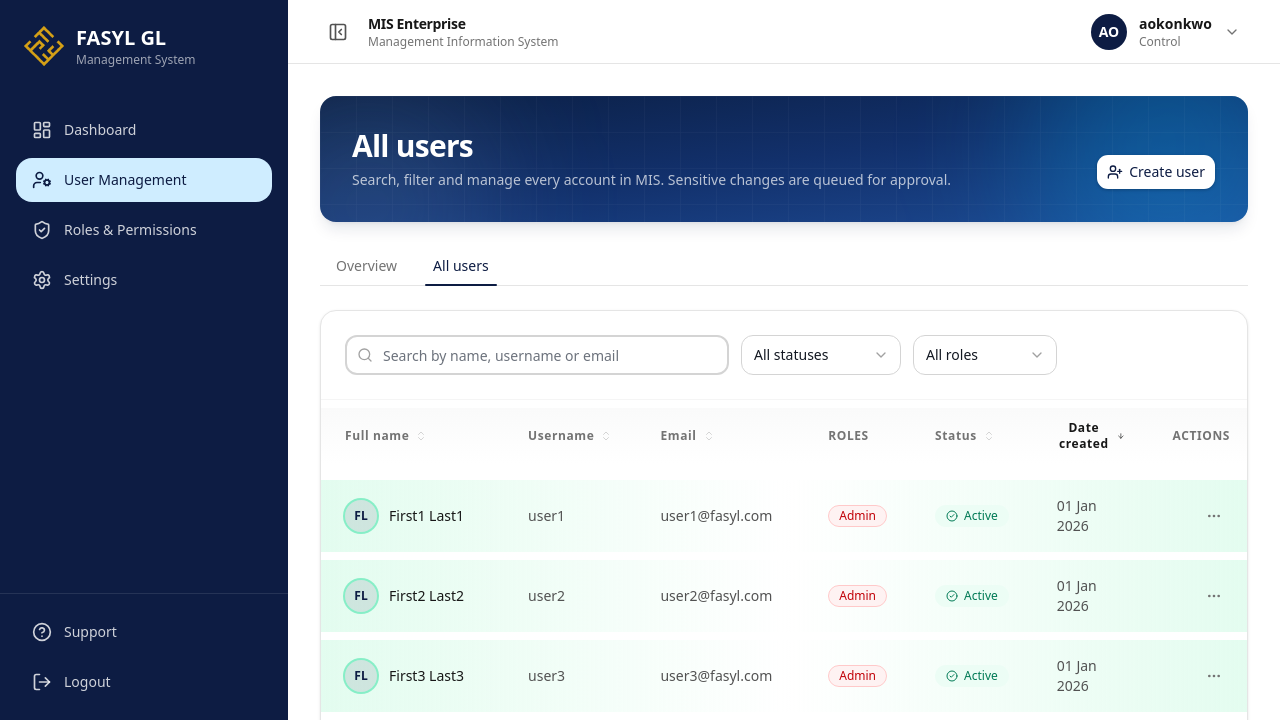
Scenario: app smoke › cancelling the credential-email dialog opens nothing
The width and height of the screenshot is (1280, 720).
Click the button named "Actions for First2 Last2": {"x": 1214, "y": 596} [1198,580,1230,612]
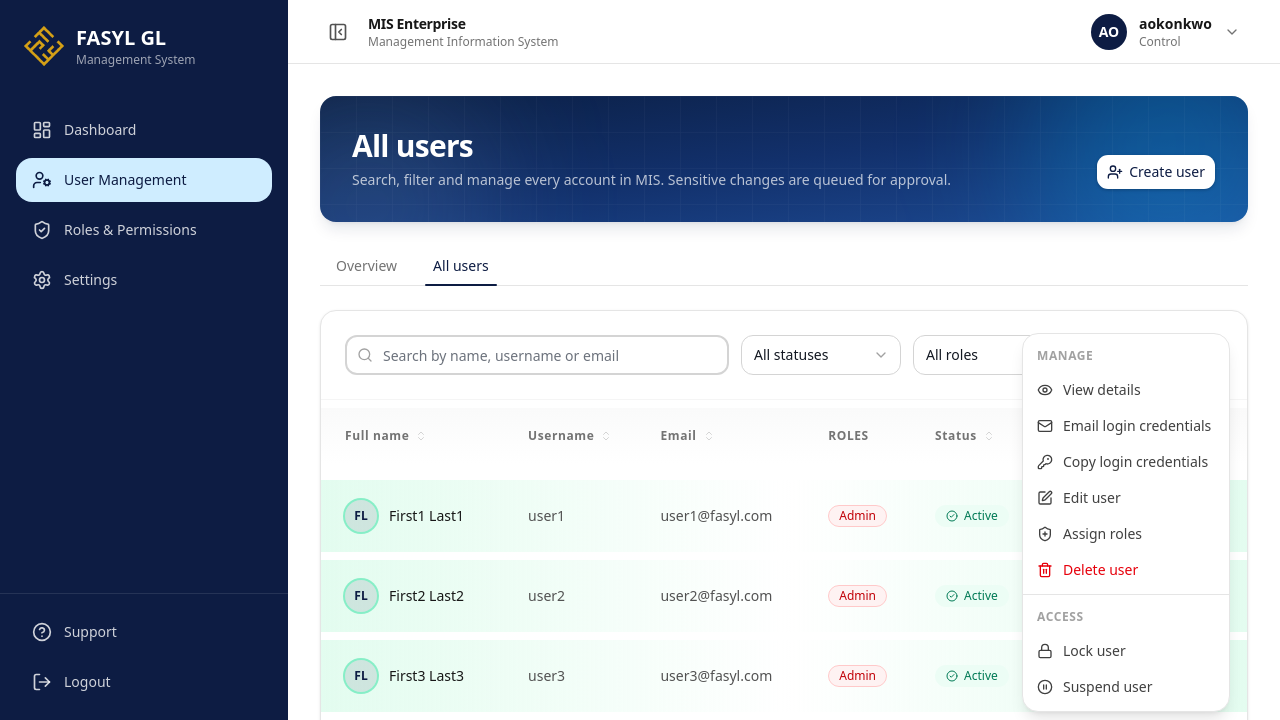
Click the menu item "Email login credentials": {"x": 1126, "y": 426} [1023,408,1229,444]
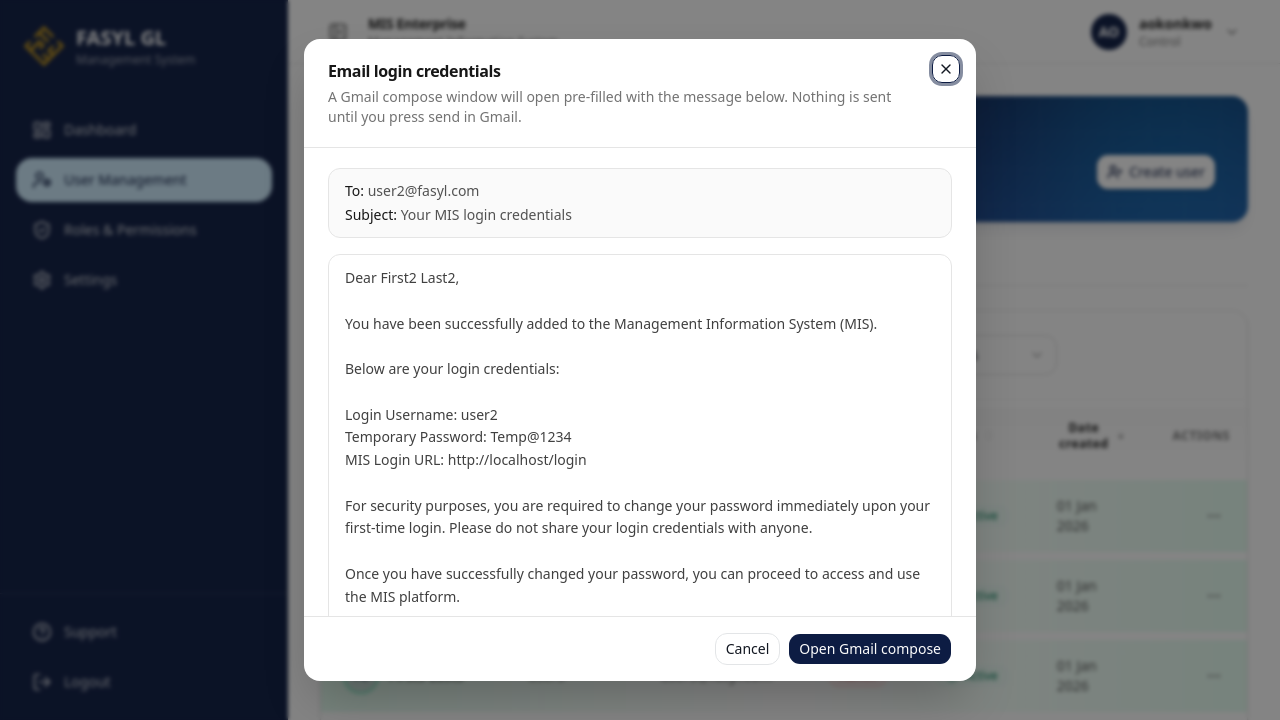
Click the button "Cancel": {"x": 748, "y": 649} [715,633,780,665]
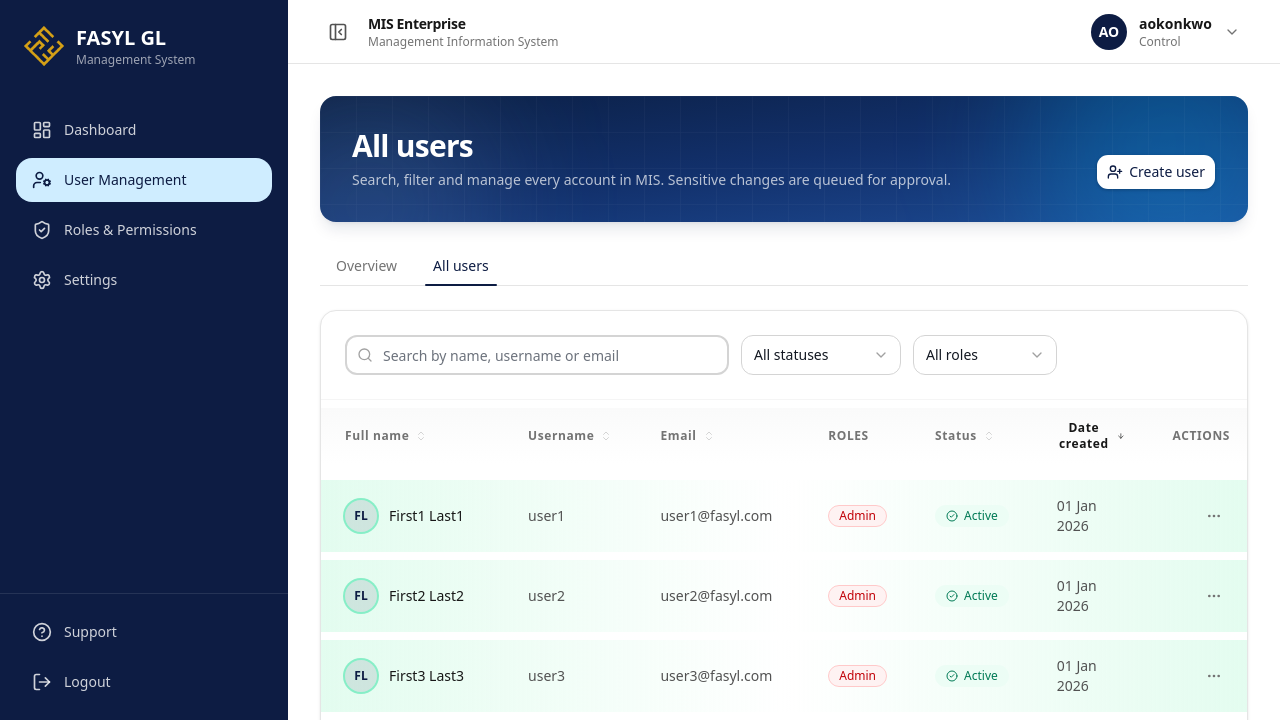
Check: the dialog is gone
